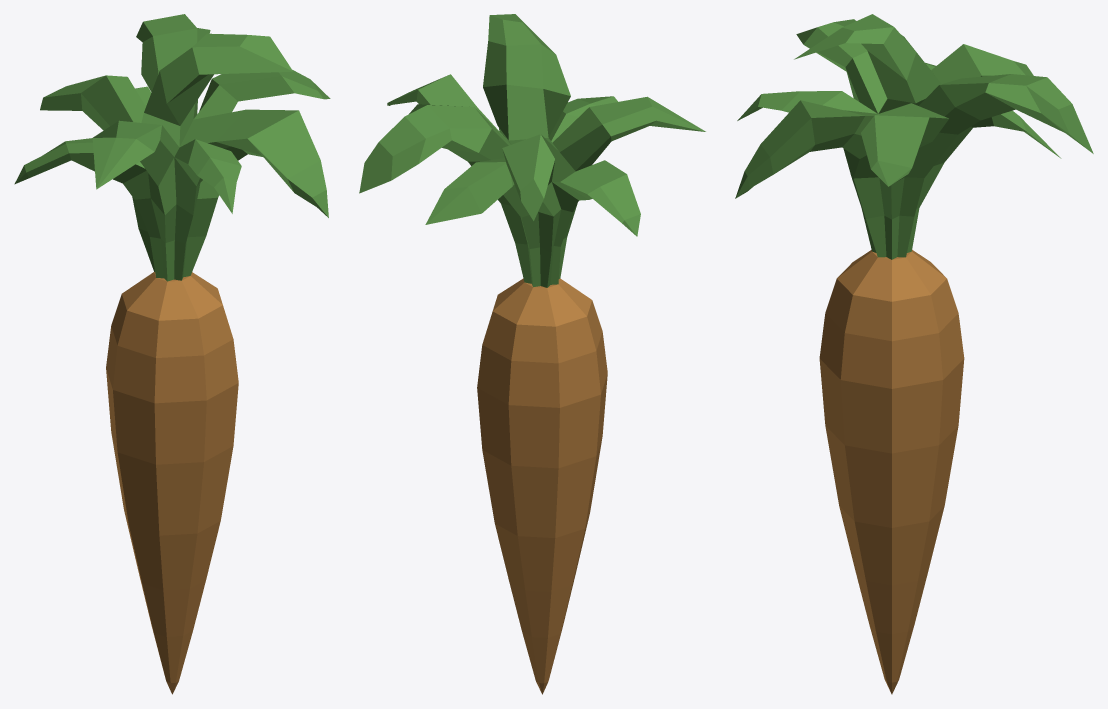
File: Carrot.fbx
3 renders of one model, left to right at view 1: azimuth 30°, elevation 25°; view 2: azimuth 150°, elevation 25°; view 3: azimuth 270°, elevation 25°, orthographic. The views are drawn at different scales.
Parts seen in each view (by area): view 1: Carrot; view 2: Carrot; view 3: Carrot.
Boxes of the visible parts, x1,y1,x2,y2 form: Carrot: (14, 14, 330, 694); Carrot: (359, 14, 705, 694); Carrot: (735, 14, 1093, 694).
Bounding box in the file's own units: 86.62 × 192 × 90.03.
